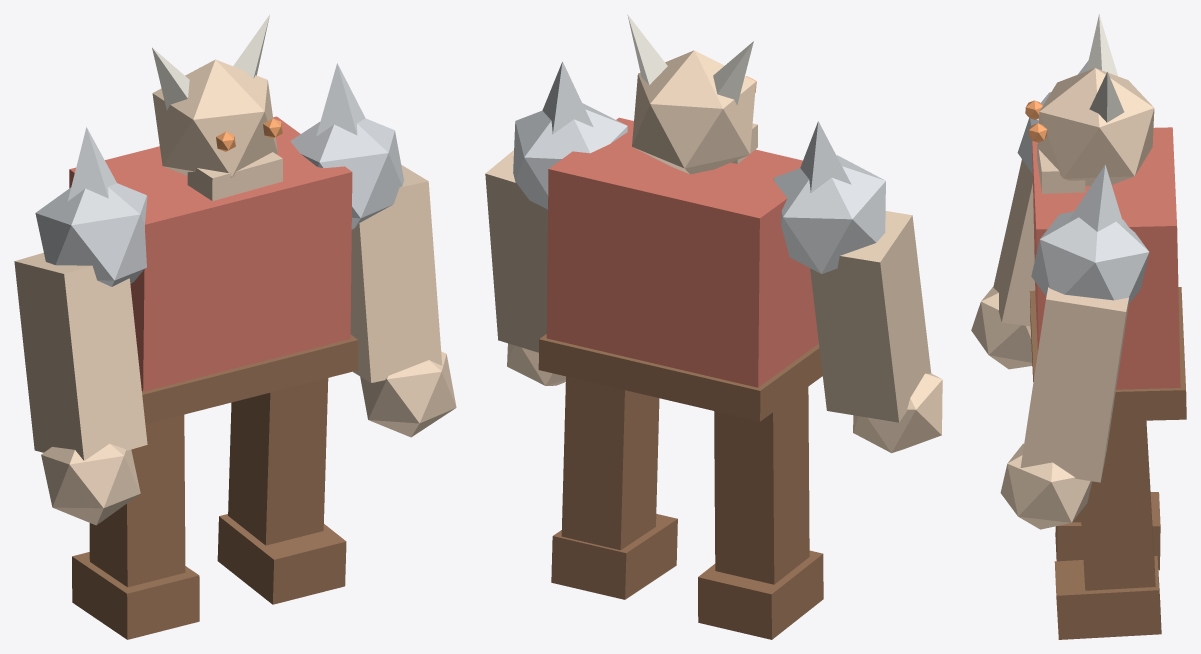
Rendered from npcpose_brute_idle_02.glb.
3 views of the same model, side by side, from view 1: azimuth 30°, elevation 25°; view 2: azimuth 150°, elevation 25°; view 3: azimuth 270°, elevation 25° (orthographic). The views are drawn at different scales.
Visible parts, largest first — view 1: npcpose; view 2: npcpose; view 3: npcpose.
Part boxes in pixels (box(x1,y1,x2,y2)): npcpose: box(14, 14, 456, 639); npcpose: box(485, 14, 942, 639); npcpose: box(971, 14, 1186, 639).
Size of the model in its own units: 1.43 by 1.86 by 0.6678.
